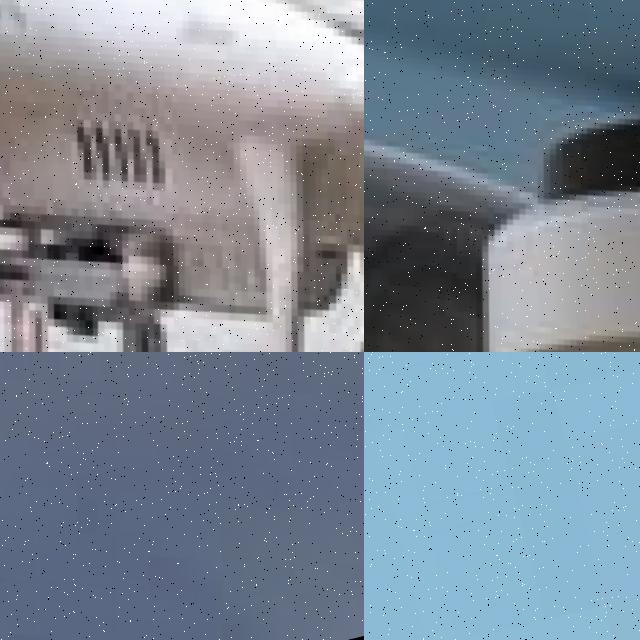0: (0, 0, 364, 352)
drone: (0, 352, 364, 640), (364, 0, 640, 352)
